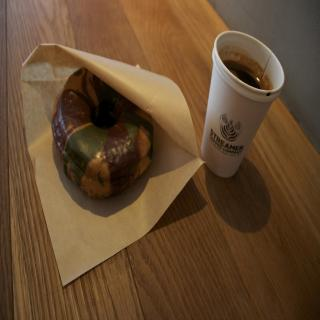Doughnut: (50, 68, 154, 200)
